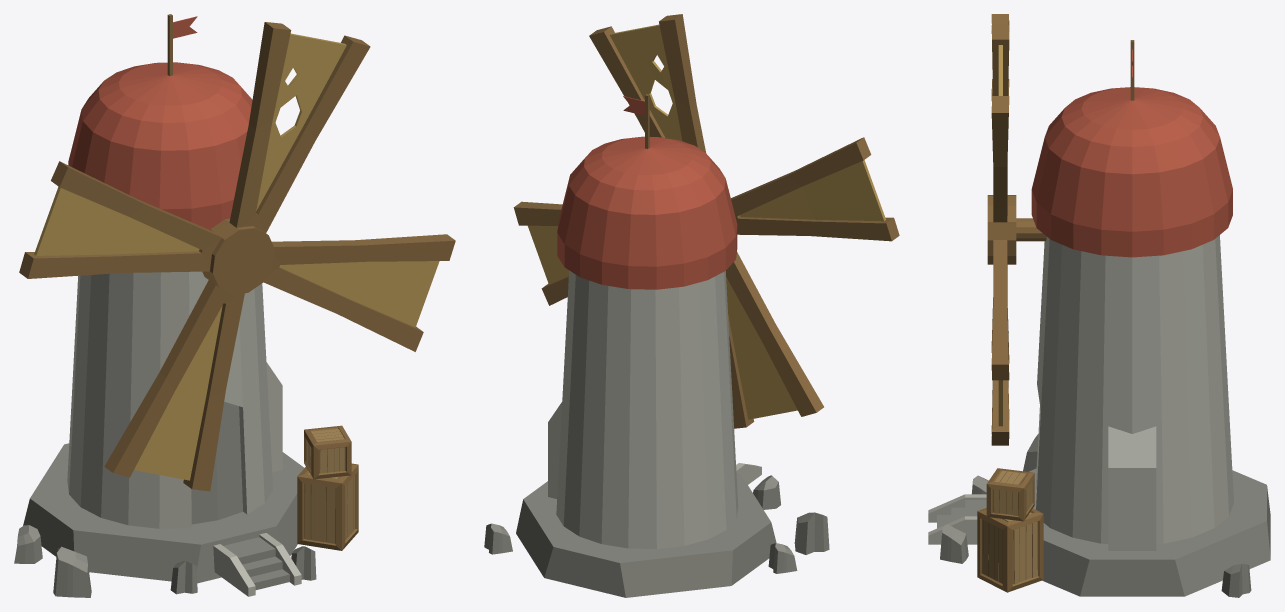
File: Windmill.glb
3 views of the same model, side by side, from view 1: azimuth 30°, elevation 25°; view 2: azimuth 150°, elevation 25°; view 3: azimuth 270°, elevation 25° (orthographic). The views are drawn at different scales.
Parts seen in each view (by area): view 1: Windmill; view 2: Windmill; view 3: Windmill.
Part boxes in pixels (left/top/right/bottom): Windmill: left=14, top=14, right=455, bottom=597; Windmill: left=484, top=14, right=899, bottom=597; Windmill: left=928, top=14, right=1270, bottom=597.
Size of the model in its own units: 1.34 by 1.61 by 0.9424.
